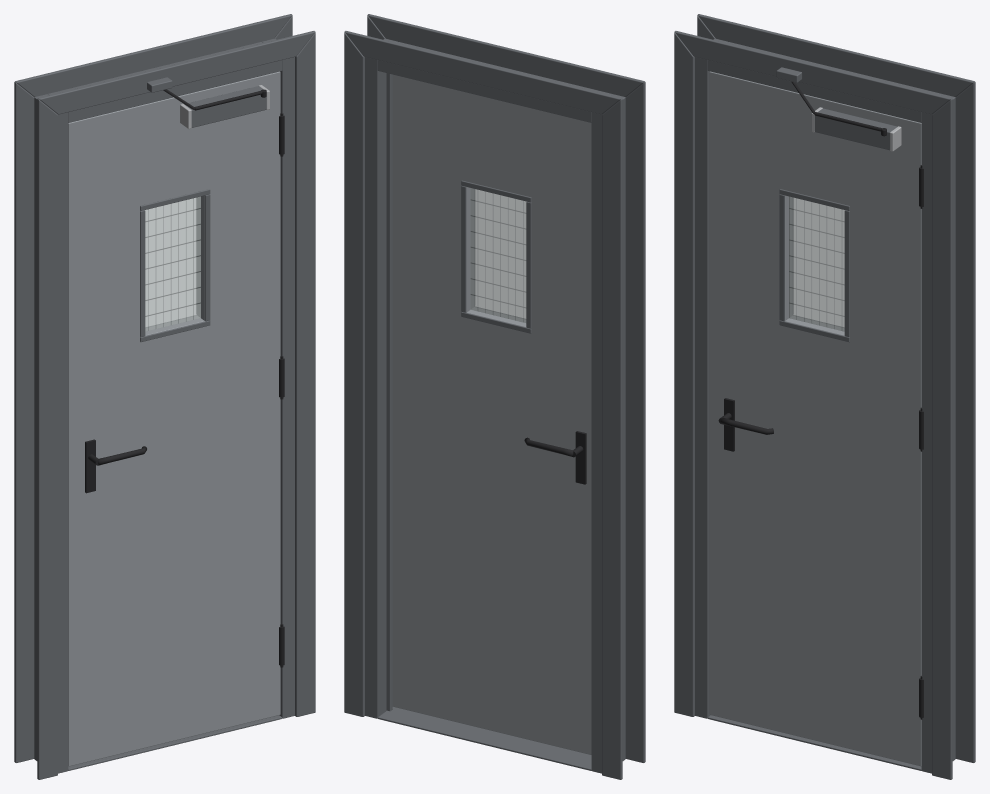
Rendered from door_fire_r.glb.
3 renders of one model, left to right at view 1: azimuth 30°, elevation 25°; view 2: azimuth 150°, elevation 25°; view 3: azimuth 330°, elevation 25°, orthographic.
Visible parts, largest first — view 1: door_fire_r_leaf_body, door_fire_r_casing, door_fire_r_frame, door_fire_r_vision_glass, door_fire_r_closer, door_fire_r_handle, door_fire_r_hinges; view 2: door_fire_r_leaf_body, door_fire_r_casing, door_fire_r_frame, door_fire_r_vision_glass, door_fire_r_handle; view 3: door_fire_r_leaf_body, door_fire_r_casing, door_fire_r_frame, door_fire_r_vision_glass, door_fire_r_closer, door_fire_r_handle, door_fire_r_hinges.
Part boxes in pixels (x1,y1,x2,y2): door_fire_r_leaf_body: (68, 71, 280, 766); door_fire_r_casing: (14, 14, 315, 779); door_fire_r_frame: (34, 38, 294, 773); door_fire_r_vision_glass: (145, 196, 200, 331); door_fire_r_closer: (147, 77, 269, 128); door_fire_r_handle: (85, 439, 146, 493); door_fire_r_hinges: (279, 112, 284, 667); door_fire_r_leaf_body: (392, 74, 591, 754); door_fire_r_casing: (344, 14, 645, 779); door_fire_r_frame: (365, 38, 625, 773); door_fire_r_vision_glass: (470, 188, 526, 322); door_fire_r_handle: (524, 431, 586, 484); door_fire_r_leaf_body: (709, 71, 921, 766); door_fire_r_casing: (674, 14, 975, 779); door_fire_r_frame: (695, 38, 955, 773); door_fire_r_vision_glass: (789, 196, 844, 331); door_fire_r_closer: (776, 67, 901, 151); door_fire_r_handle: (718, 398, 773, 451); door_fire_r_hinges: (919, 165, 923, 719).
Size of the model in its own units: 0.92 by 2.16 by 0.1945.
6 materials, 1 textured.
